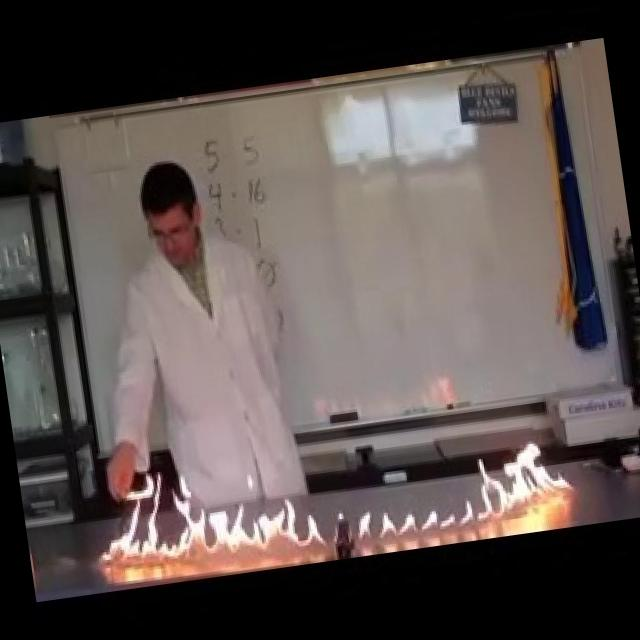Fire: (82, 454, 328, 580), (469, 428, 578, 524), (352, 476, 476, 548)
